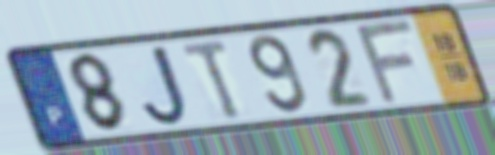2: (306, 27, 375, 111)
8: (67, 50, 129, 136)
9: (247, 32, 309, 116)
F: (352, 16, 418, 108)
J: (139, 42, 191, 130)
T: (179, 37, 247, 123)
